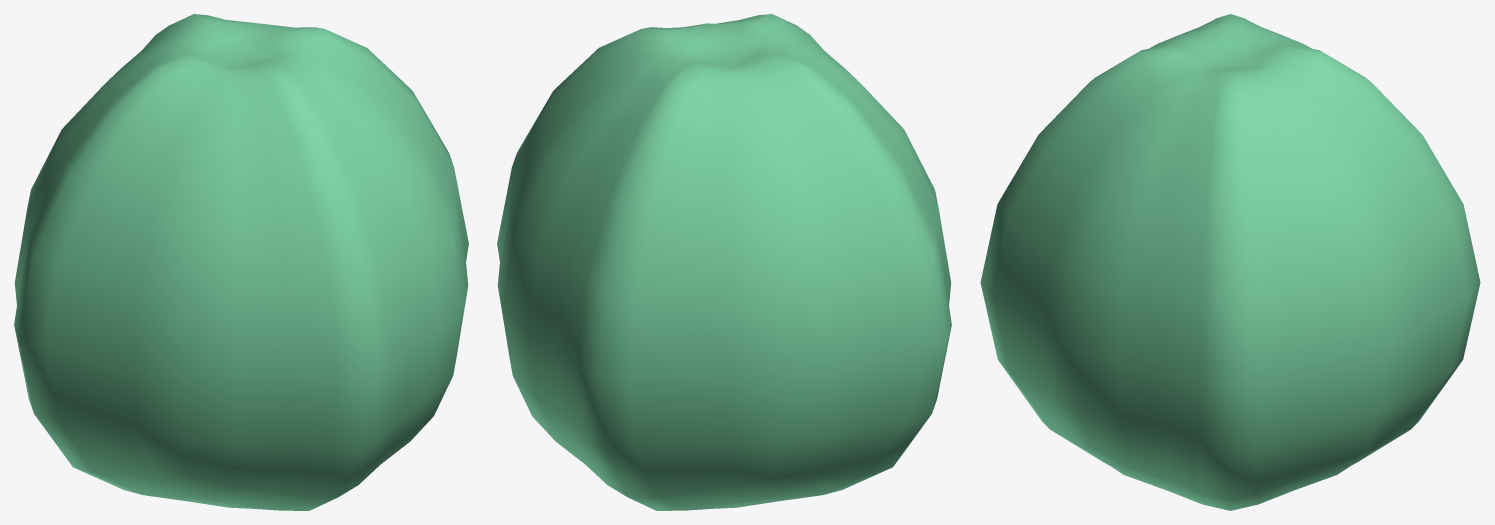
The model's file is Cactus_B_01.fbx.
3 views of the same model, side by side, from view 1: azimuth 30°, elevation 25°; view 2: azimuth 150°, elevation 25°; view 3: azimuth 270°, elevation 25° (orthographic). The views are drawn at different scales.
Visible parts, largest first — view 1: Cactus_B_01_LOD0; view 2: Cactus_B_01_LOD0; view 3: Cactus_B_01_LOD0.
Part boxes in pixels (bbox=[...]): Cactus_B_01_LOD0: bbox=[14, 14, 468, 510]; Cactus_B_01_LOD0: bbox=[497, 14, 951, 510]; Cactus_B_01_LOD0: bbox=[980, 14, 1480, 510].
Size of what is drawn, in the model's own units: 405 by 396 by 404.
